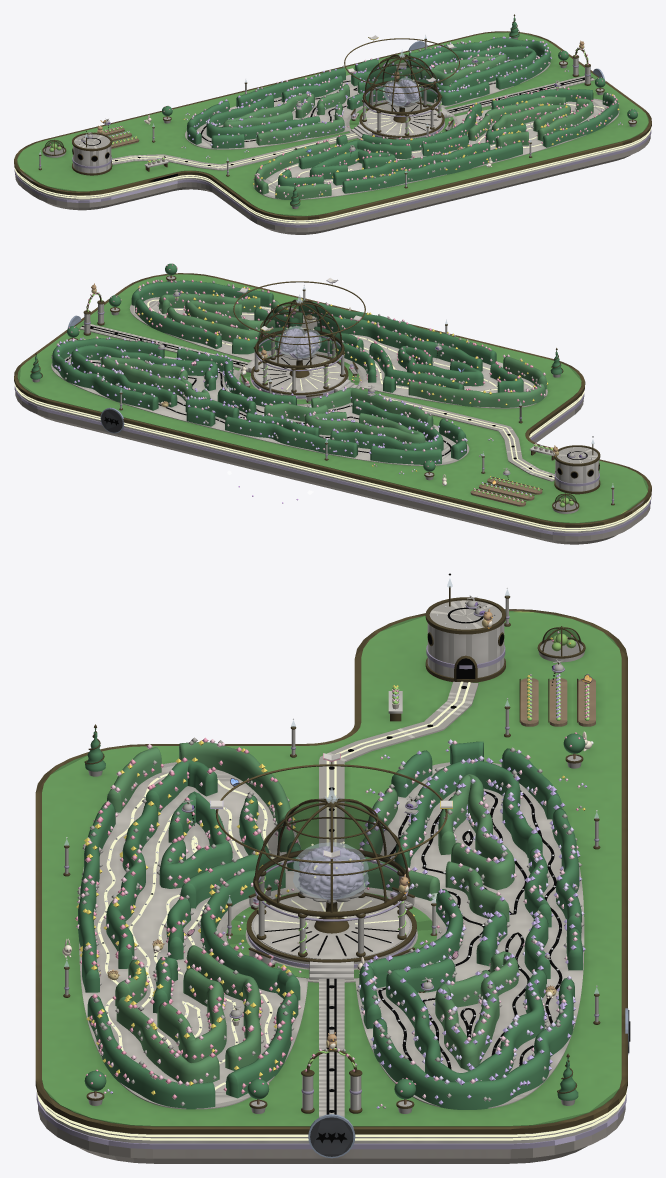
Rendered from SM_Evo_AICore.fbx.
3 views of the same model, one above another, from view 1: azimuth 30°, elevation 25°; view 2: azimuth 150°, elevation 25°; view 3: azimuth 270°, elevation 25° (orthographic). The views are drawn at different scales.
Parts seen in each view (by area): view 1: SMN_Evo_AICore, Emblem_Fx_AICore, SpinDish_AICoreThoughts; view 2: SMN_Evo_AICore, Emblem_Fx_AICore, SpinDish_AICoreThoughts; view 3: SMN_Evo_AICore, Emblem_Fx_AICore, SpinDish_AICoreThoughts.
Part boxes in pixels (x1,y1,x2,y2): SMN_Evo_AICore: (14,14,651,234); Emblem_Fx_AICore: (14,35,651,223); SpinDish_AICoreThoughts: (344,35,459,87); SMN_Evo_AICore: (14,263,651,544); Emblem_Fx_AICore: (14,285,650,531); SpinDish_AICoreThoughts: (233,278,365,337); SMN_Evo_AICore: (35,586,629,1163); Emblem_Fx_AICore: (36,573,630,1142); SpinDish_AICoreThoughts: (210,753,452,863).
Bounding box in the file's own units: 3.86 × 1.11 × 1.86.
